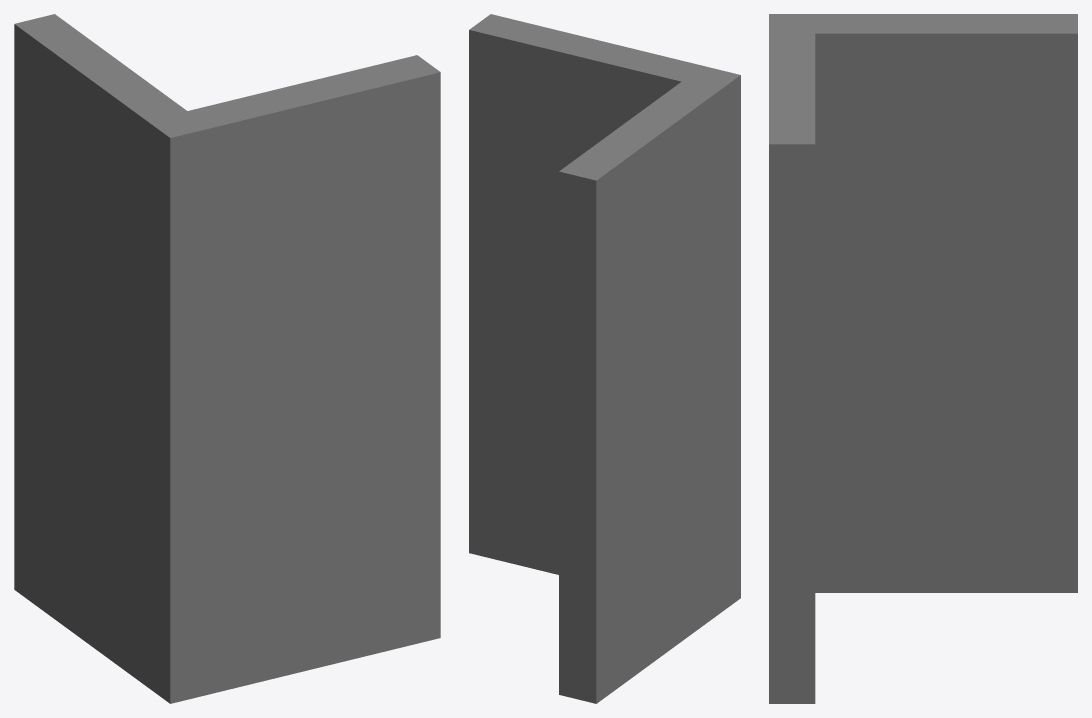
The model's file is GreyCorner.glb.
3 renders of one model, left to right at view 1: azimuth 30°, elevation 25°; view 2: azimuth 150°, elevation 25°; view 3: azimuth 270°, elevation 25°, orthographic. The views are drawn at different scales.
Visible parts, largest first — view 1: wall_plain_corner_grey; view 2: wall_plain_corner_grey; view 3: wall_plain_corner_grey.
Part boxes in pixels (x1,y1,x2,y2): wall_plain_corner_grey: [14, 14, 440, 703]; wall_plain_corner_grey: [469, 14, 740, 703]; wall_plain_corner_grey: [769, 14, 1077, 703].
Size of what is drawn, in the model's own units: 2 by 4 by 2.
Materials: 1 (1 with a texture image).
